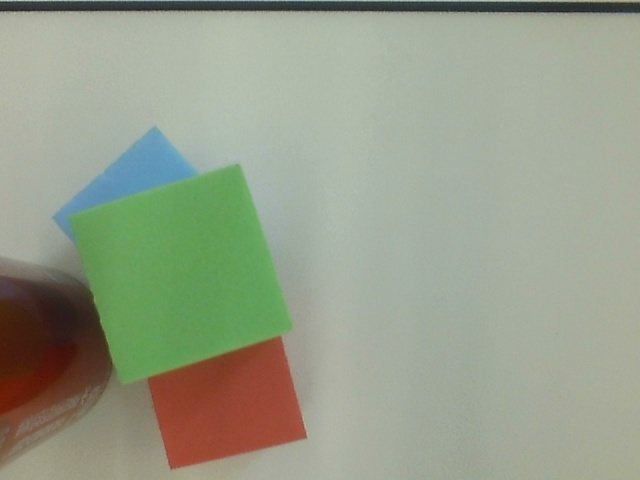bluecube: (49, 124, 226, 264)
cola: (1, 251, 118, 469)
greencube: (71, 161, 297, 388)
redcube: (136, 325, 322, 473)
